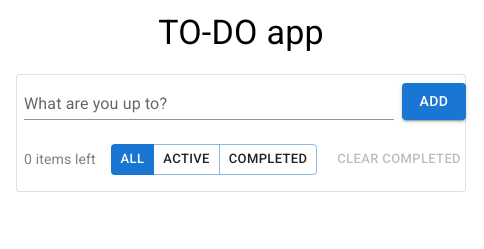
Test case: adds a new todo
Type "New Todo" into the field labelled "What are you up to?" at coordinates (209, 106), box 24,91 -> 394,120
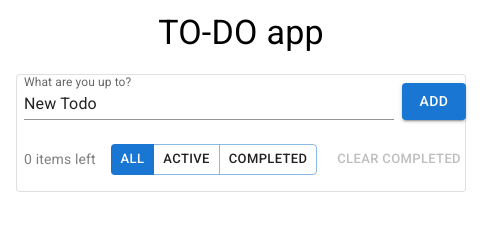
Click the button "Add" at coordinates (434, 101), box 402,83 -> 466,120
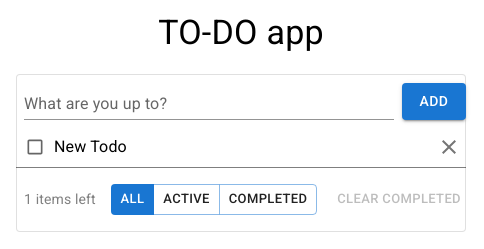
Expected: the text "New Todo" is shown, 54,136 -> 127,160
